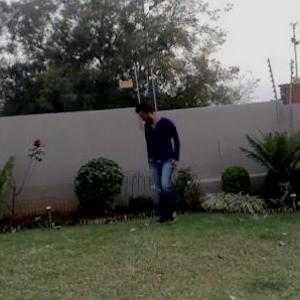follow: (142, 97, 184, 228)
